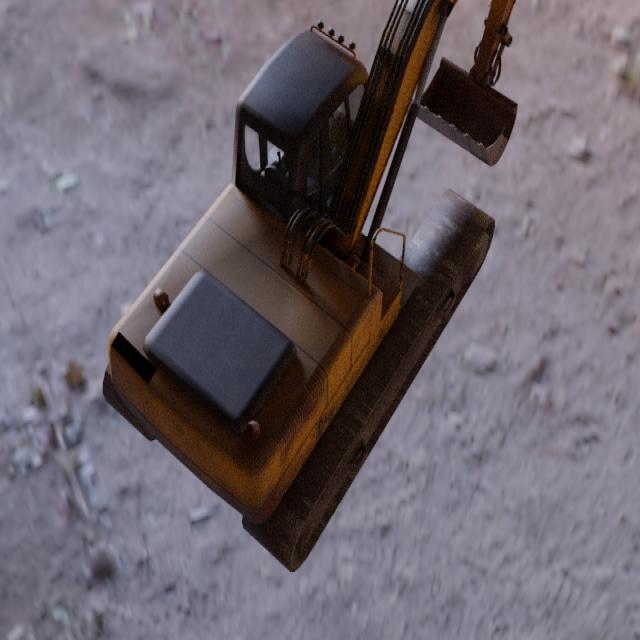excavator: (102, 0, 518, 573)
